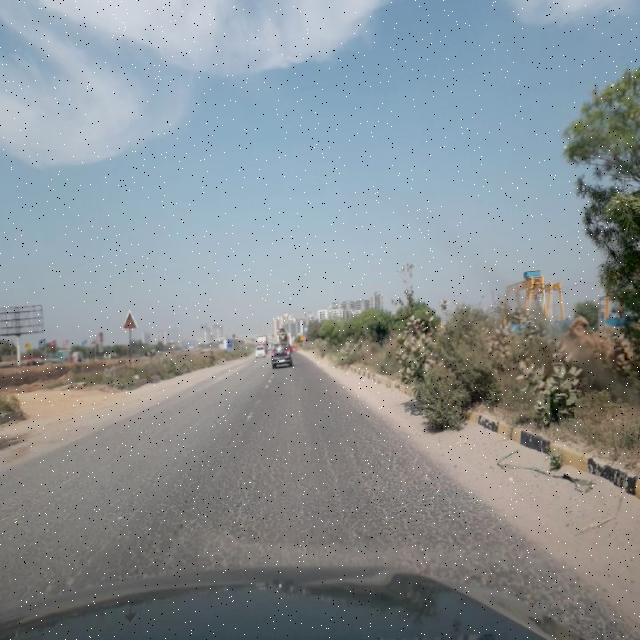D20: (1, 422, 583, 584)
D44: (170, 431, 242, 549)
